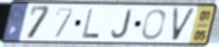7: (26, 5, 53, 41), (54, 6, 76, 40)
J: (110, 8, 133, 40)
L: (80, 8, 102, 40)
O: (140, 8, 167, 41)
V: (171, 6, 198, 43)
